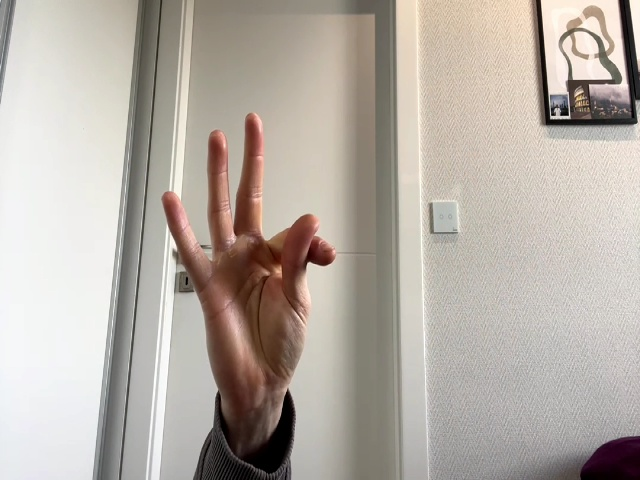T: (161, 111, 336, 393)
